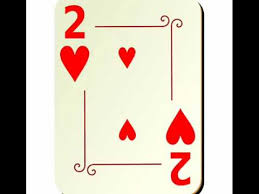two of hearts: (55, 1, 201, 194)
